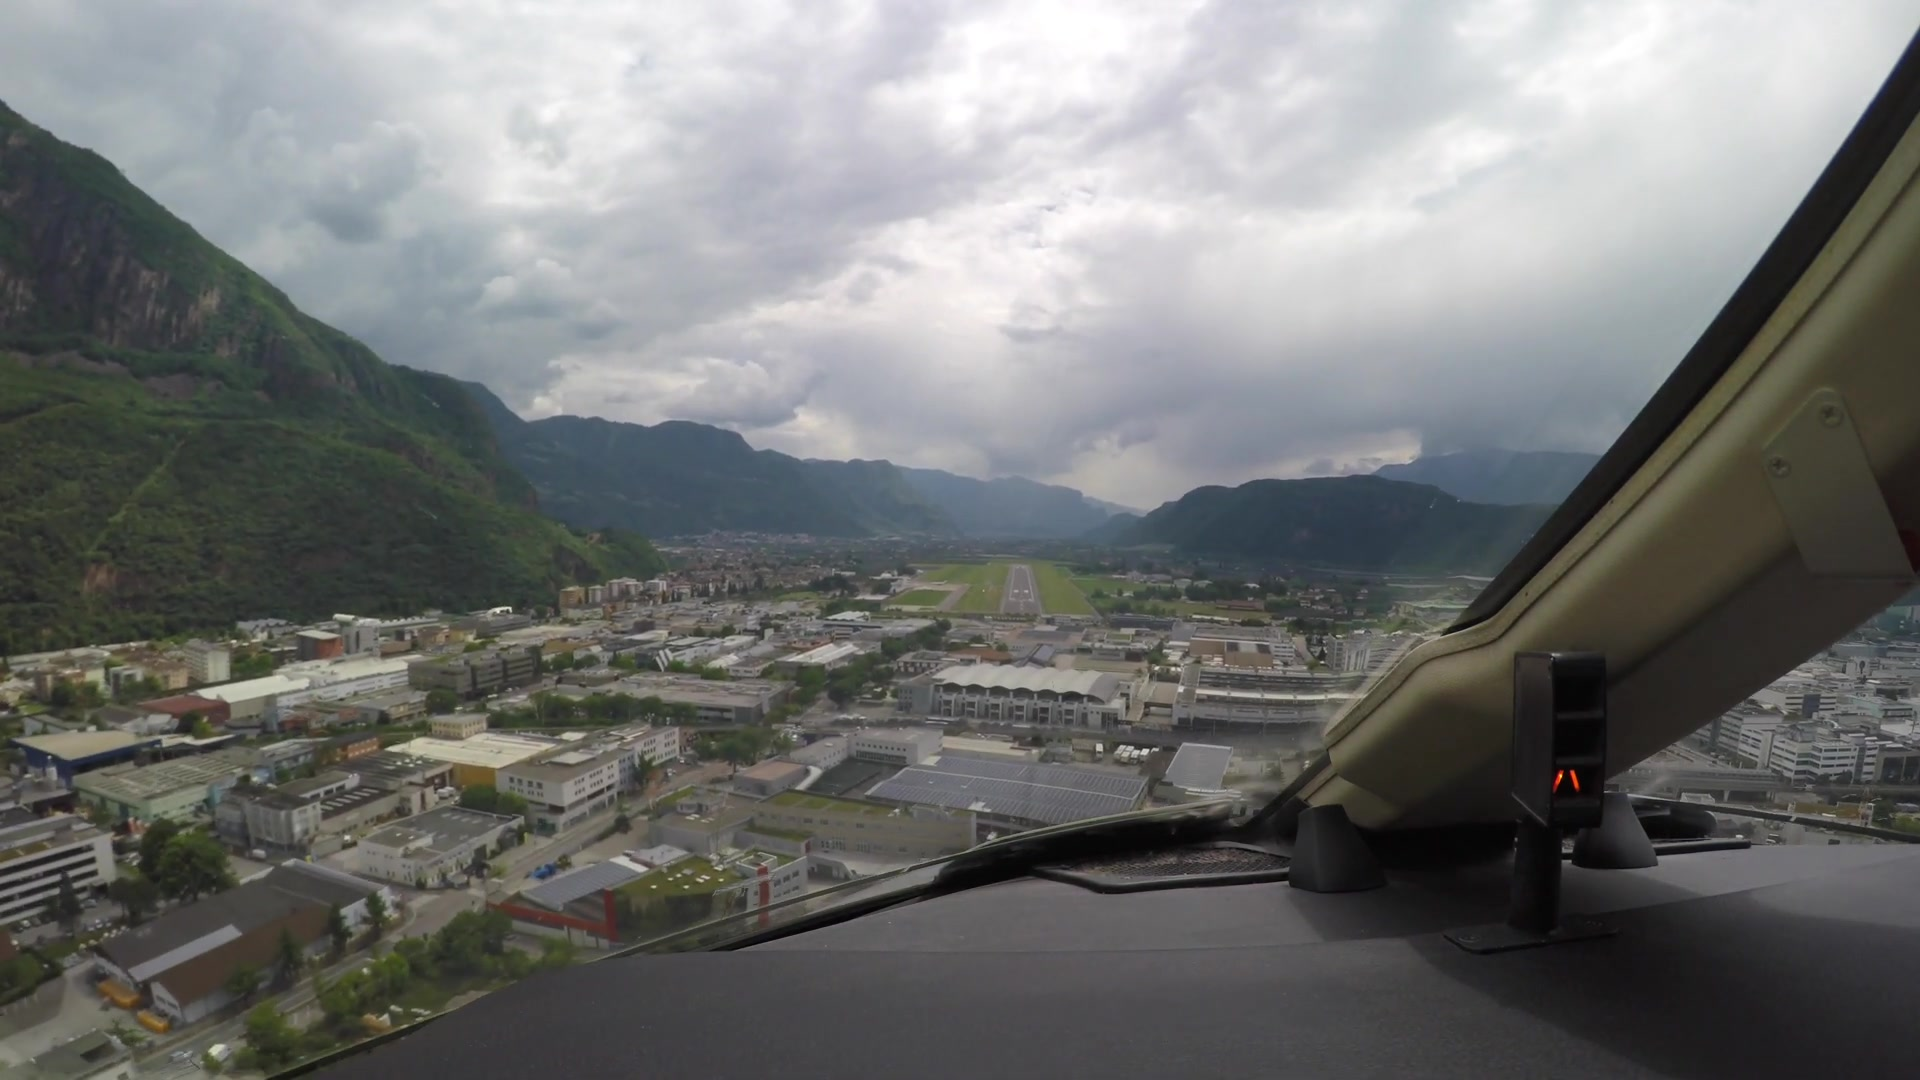runway: (1007, 563, 1035, 607)
